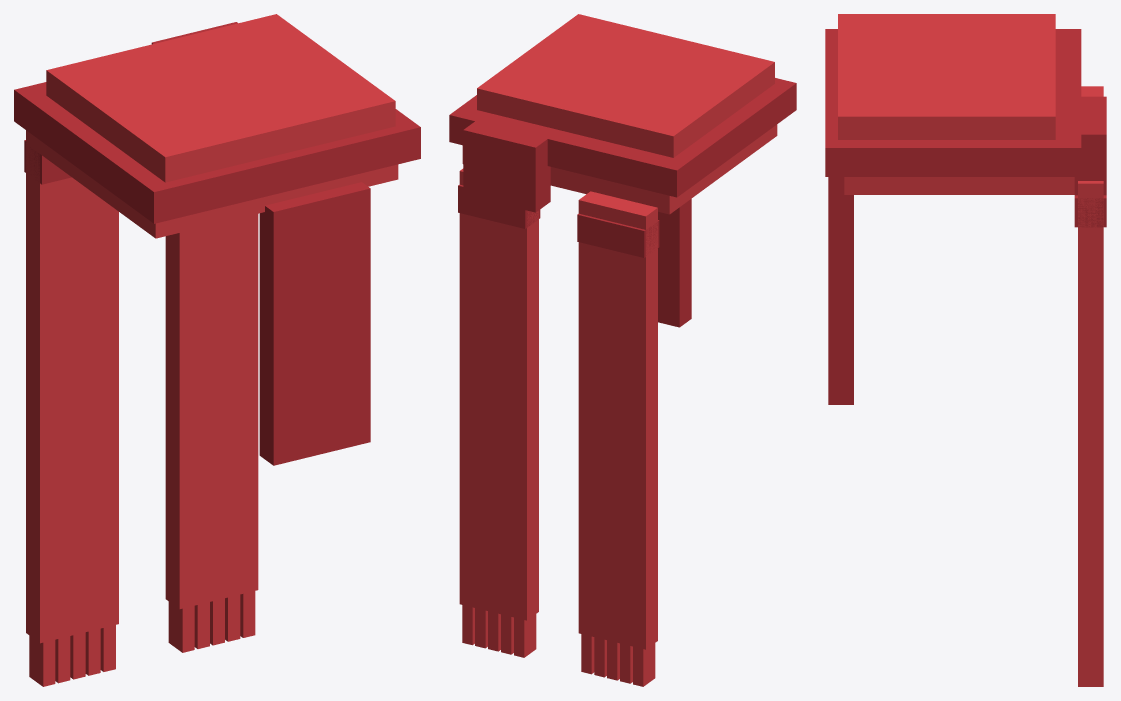
Rendered from cachecol_longo_vermelho.glb.
3 views of the same model, side by side, from view 1: azimuth 30°, elevation 25°; view 2: azimuth 150°, elevation 25°; view 3: azimuth 270°, elevation 25° (orthographic). The views are drawn at different scales.
Parts seen in each view (by area): view 1: cachecol_longo_vermelho; view 2: cachecol_longo_vermelho; view 3: cachecol_longo_vermelho.
Part boxes in pixels (x1,y1,x2,y2): cachecol_longo_vermelho: [14, 14, 420, 686]; cachecol_longo_vermelho: [449, 14, 796, 686]; cachecol_longo_vermelho: [825, 14, 1106, 686].
Bounding box in the file's own units: 0.44 × 0.99 × 0.44.
